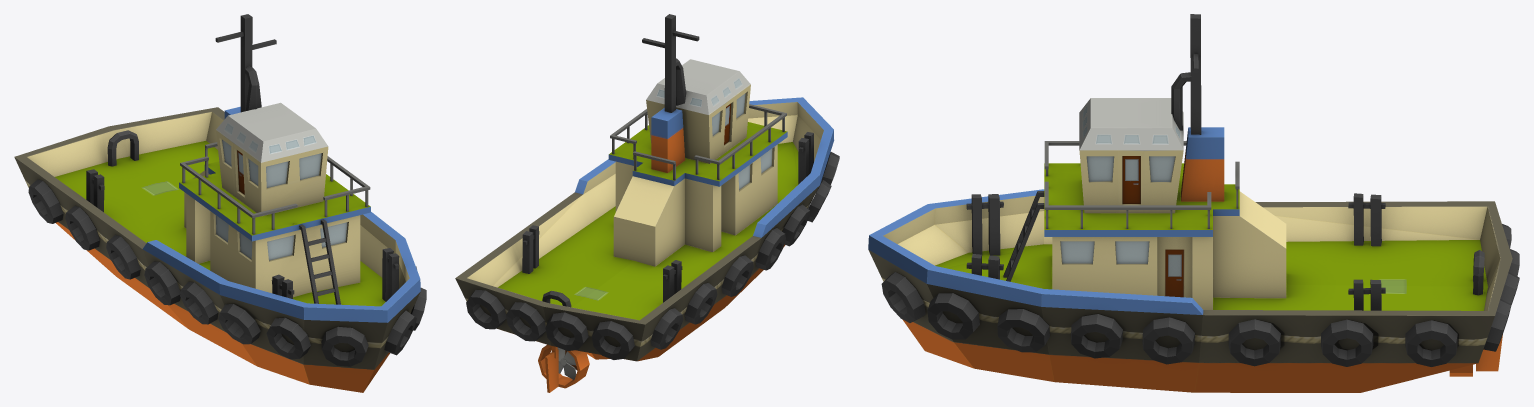
Rendered from Tugboat.glb.
3 views of the same model, side by side, from view 1: azimuth 30°, elevation 25°; view 2: azimuth 150°, elevation 25°; view 3: azimuth 270°, elevation 25° (orthographic). The views are drawn at different scales.
Visible parts, largest first — view 1: Tugboat_mesh; view 2: Tugboat_mesh; view 3: Tugboat_mesh.
Part boxes in pixels (box(x1,y1,x2,y2)): Tugboat_mesh: box(14, 14, 426, 392); Tugboat_mesh: box(455, 14, 839, 392); Tugboat_mesh: box(868, 14, 1519, 392).
Bounding box in the file's own units: 4.73 × 6.4 × 10.59.
Materials: 1 (1 with a texture image).
